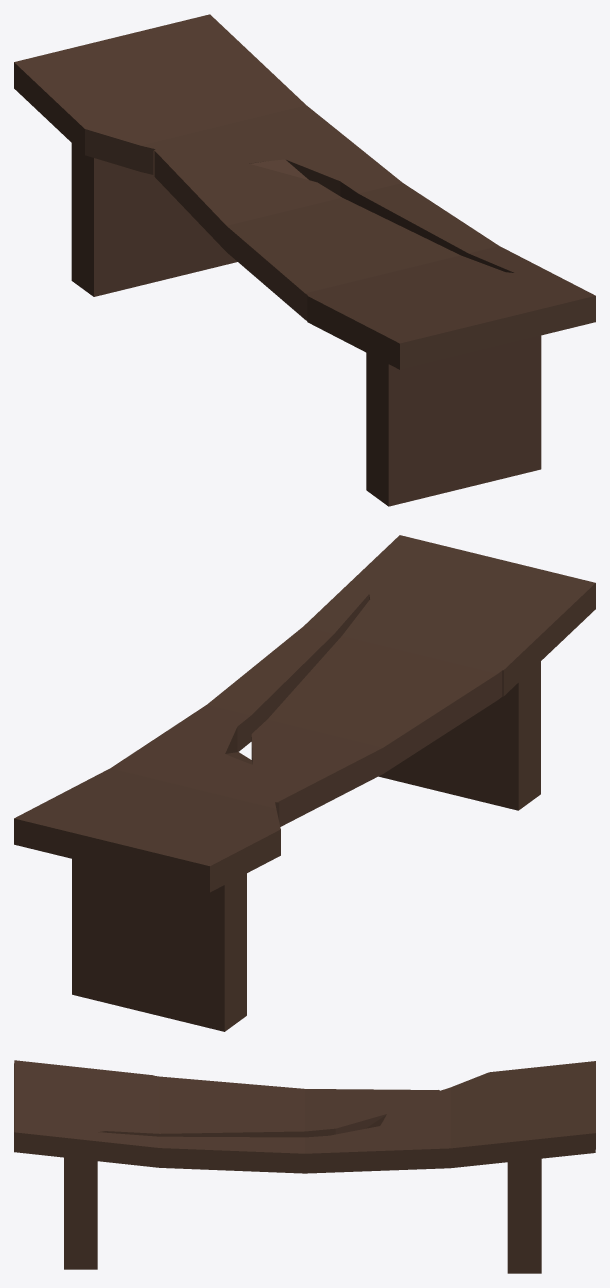
The model's file is bench.fbx.
3 renders of one model, top to bottom at view 1: azimuth 30°, elevation 25°; view 2: azimuth 150°, elevation 25°; view 3: azimuth 270°, elevation 25°, orthographic. The views are drawn at different scales.
Visible parts, largest first — view 1: Cube; view 2: Cube; view 3: Cube.
Boxes of the visible parts, box(x1,y1,x2,y2) form: Cube: box(14, 14, 595, 506); Cube: box(14, 535, 595, 1031); Cube: box(14, 1060, 595, 1273).
Size of the model in its own units: 214 by 207 by 730.
